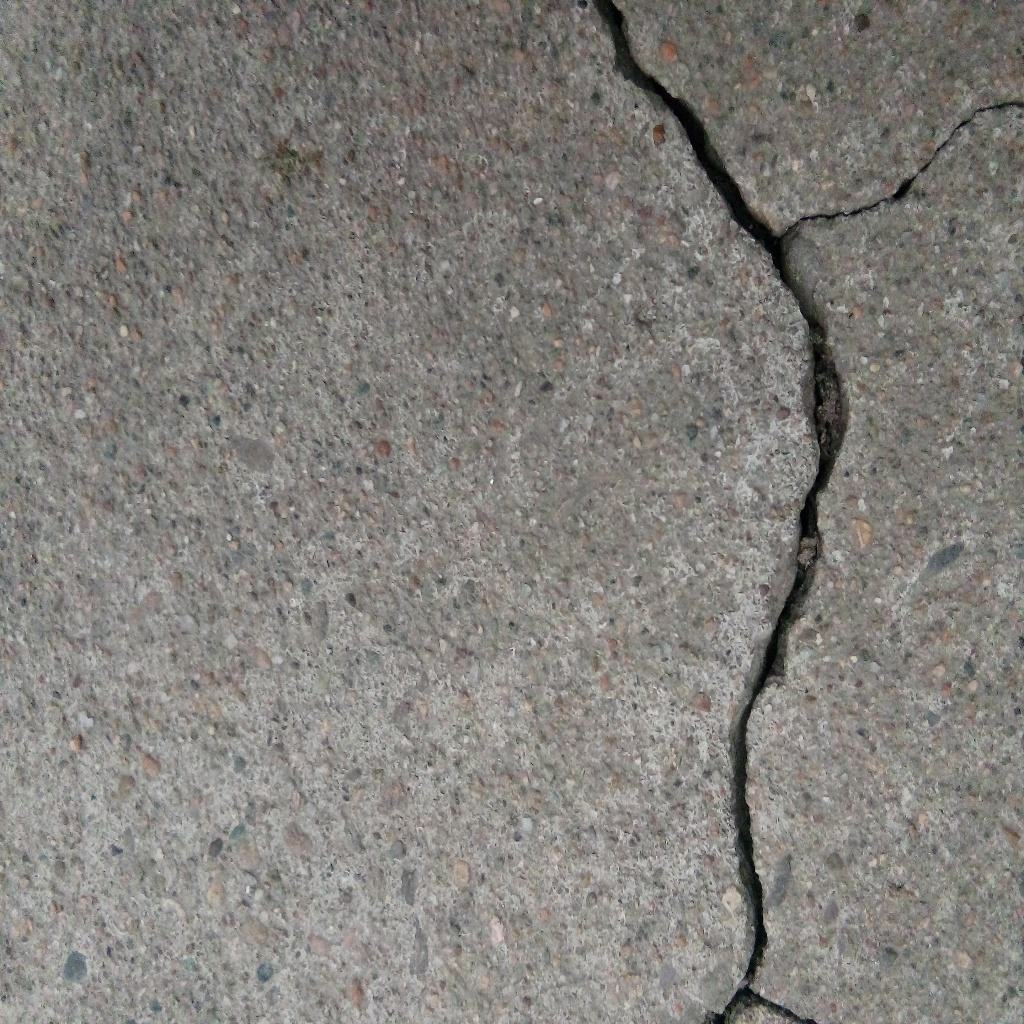Crack: (595, 1, 852, 1024), (780, 100, 1024, 241)
